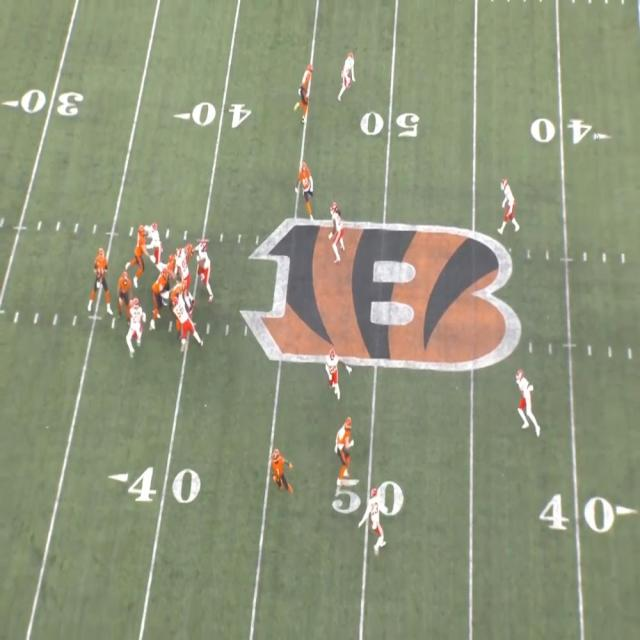db: (368, 488, 389, 549), (517, 370, 536, 430), (500, 180, 517, 233), (128, 302, 142, 357), (343, 51, 358, 96)
lb: (326, 350, 342, 401), (330, 206, 343, 247)
qb: (95, 248, 109, 293)
skill: (297, 160, 316, 222), (338, 418, 356, 481), (297, 62, 313, 115), (273, 447, 290, 488), (118, 269, 130, 311)
